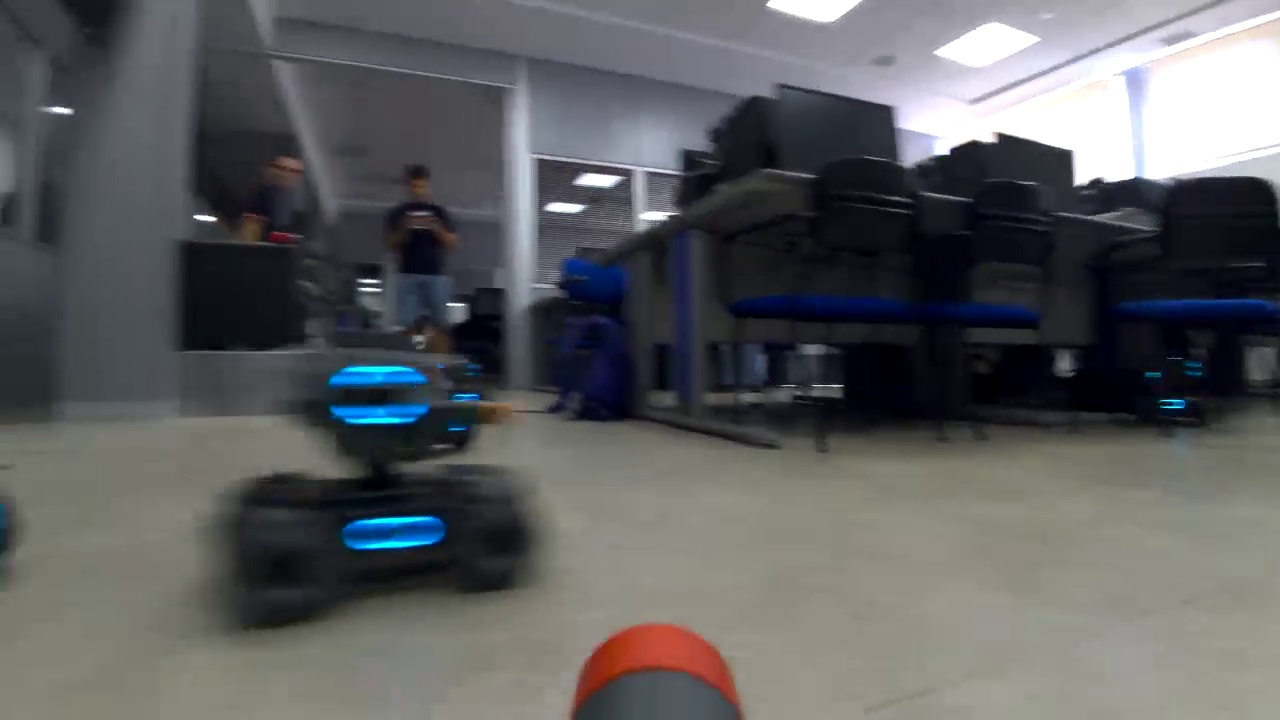robot: (205, 339, 551, 619), (1138, 352, 1211, 428)
